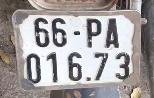0: (24, 51, 43, 86)
1: (44, 50, 61, 84)
3: (112, 50, 133, 82)
6: (32, 16, 51, 49), (66, 50, 84, 83), (51, 16, 68, 48)
7: (92, 50, 109, 84)
A: (105, 15, 122, 50)
P: (85, 16, 103, 49)
